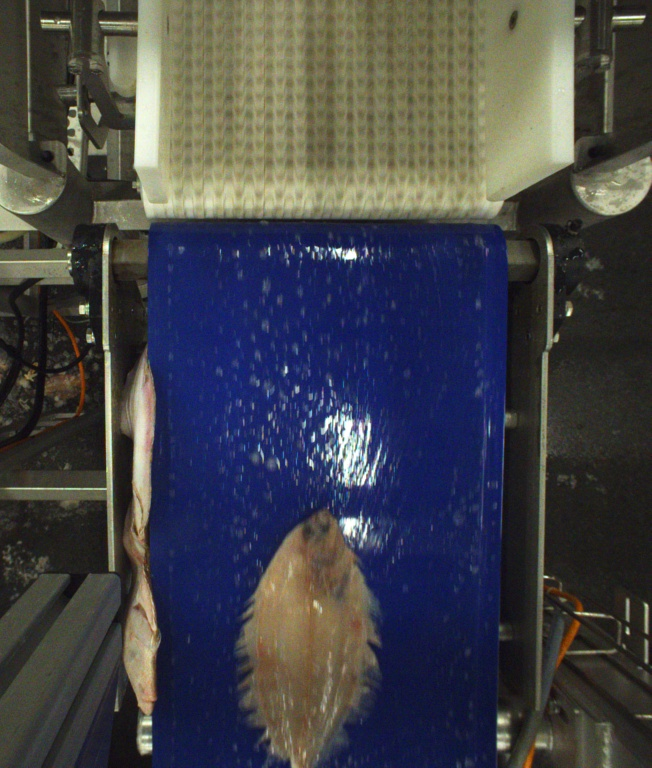WIT: (243, 507, 382, 763)
